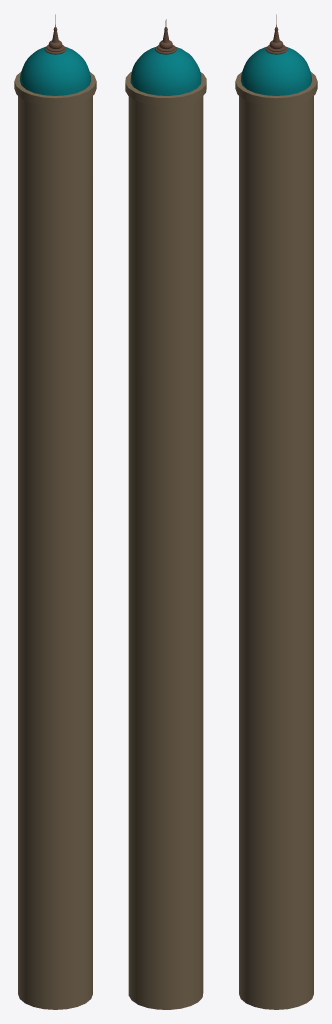
Rendered from DomeBuilding.fbx.
3 renders of one model, left to right at view 1: azimuth 90°, elevation 25°; view 2: azimuth 150°, elevation 25°; view 3: azimuth 270°, elevation 25°, orthographic.
Visible parts, largest first — view 1: SphereSpike_LOD0; view 2: SphereSpike_LOD0; view 3: SphereSpike_LOD0.
Part boxes in pixels (bbox=[...]): SphereSpike_LOD0: bbox=[14, 14, 96, 1009]; SphereSpike_LOD0: bbox=[125, 19, 206, 1009]; SphereSpike_LOD0: bbox=[235, 14, 317, 1009].
Size of the model in its own units: 5.04 by 66.43 by 5.04.
